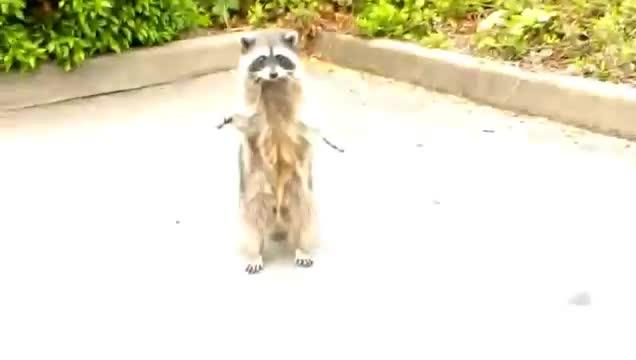raccoon: (218, 31, 350, 274)
